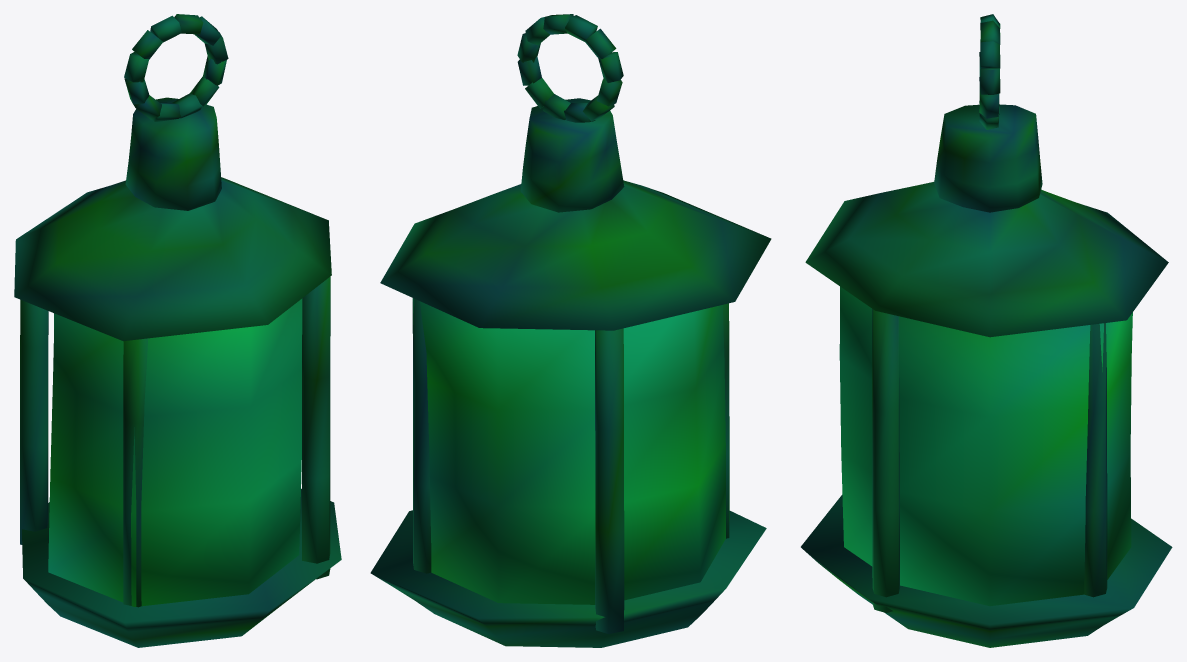
Rendered from Lantern_A.fbx.
The picture shows the model from 3 angles, left to right: view 1: azimuth 30°, elevation 25°; view 2: azimuth 150°, elevation 25°; view 3: azimuth 270°, elevation 25°; orthographic projection.
Visible parts, largest first — view 1: Lantern_A; view 2: Lantern_A; view 3: Lantern_A.
Boxes of the visible parts, bbox=[...] form: Lantern_A: bbox=[14, 14, 341, 647]; Lantern_A: bbox=[370, 14, 771, 647]; Lantern_A: bbox=[801, 14, 1172, 647].
Bounding box in the file's own units: 0.2126 × 0.3636 × 0.2133.
